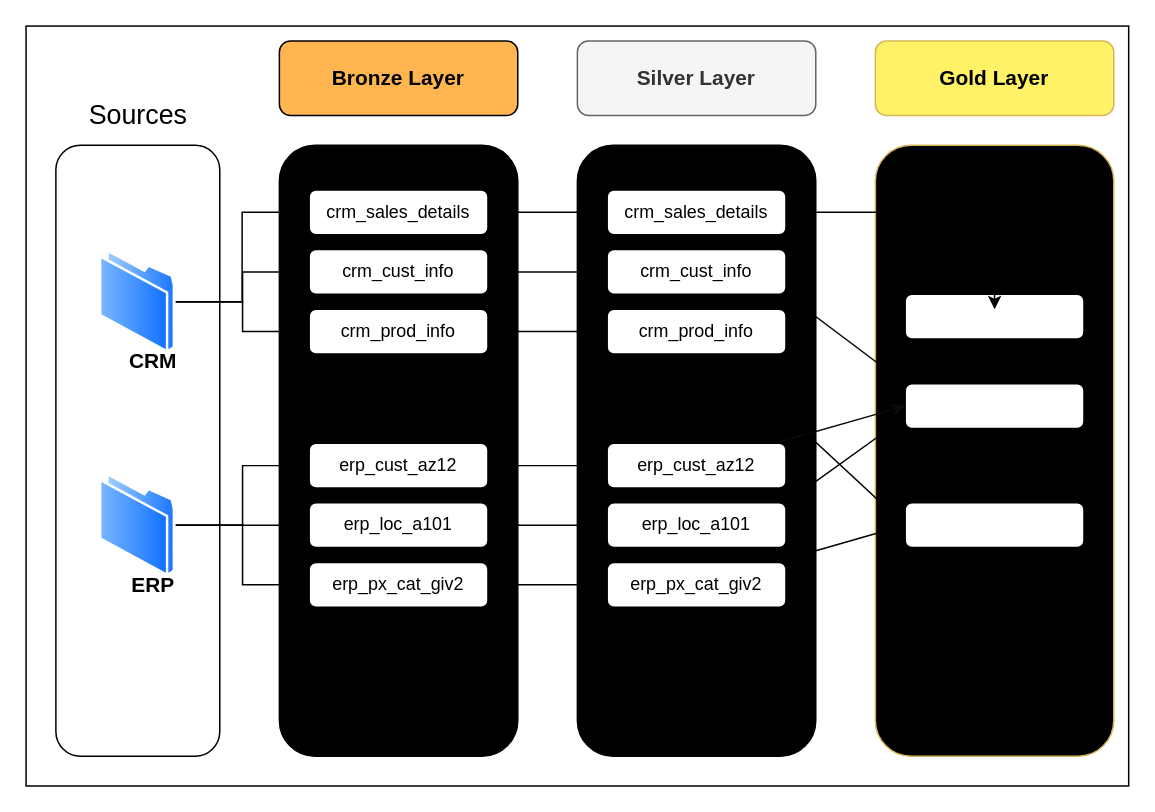
Some shapes in this 1155 by 812 pixel diagram are drawn without their labels. The box of each missing label's shape, as (x1, y1, x2, y2) in pixels:
dim_customers: (904, 382, 1084, 428)
dim_products: (904, 501, 1084, 548)
fact_sales: (904, 293, 1084, 339)
